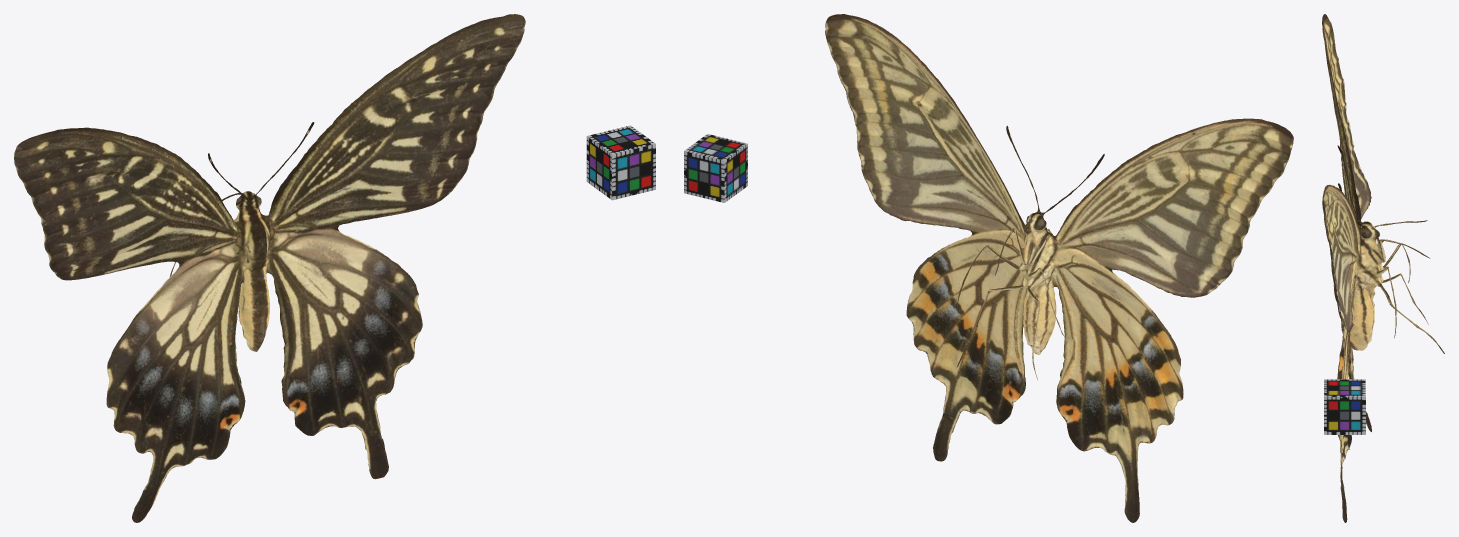
The model's file is swallowtail.glb.
The picture shows the model from 3 angles, left to right: view 1: azimuth 30°, elevation 25°; view 2: azimuth 150°, elevation 25°; view 3: azimuth 270°, elevation 25°; orthographic projection. The views are drawn at different scales.
Visible parts, largest first — view 1: Object_6, Object_4; view 2: Object_6, Object_4; view 3: Object_6, Object_4.
Boxes of the visible parts, x1,y1,x2,y2 form: Object_6: (14,14,525,522); Object_4: (586,125,655,200); Object_6: (825,14,1293,522); Object_4: (684,134,747,202); Object_6: (1322,14,1444,522); Object_4: (1324,379,1365,434).
Bounding box in the file's own units: 0.1454 × 0.0973 × 0.0294.
4 materials, 4 textured.
